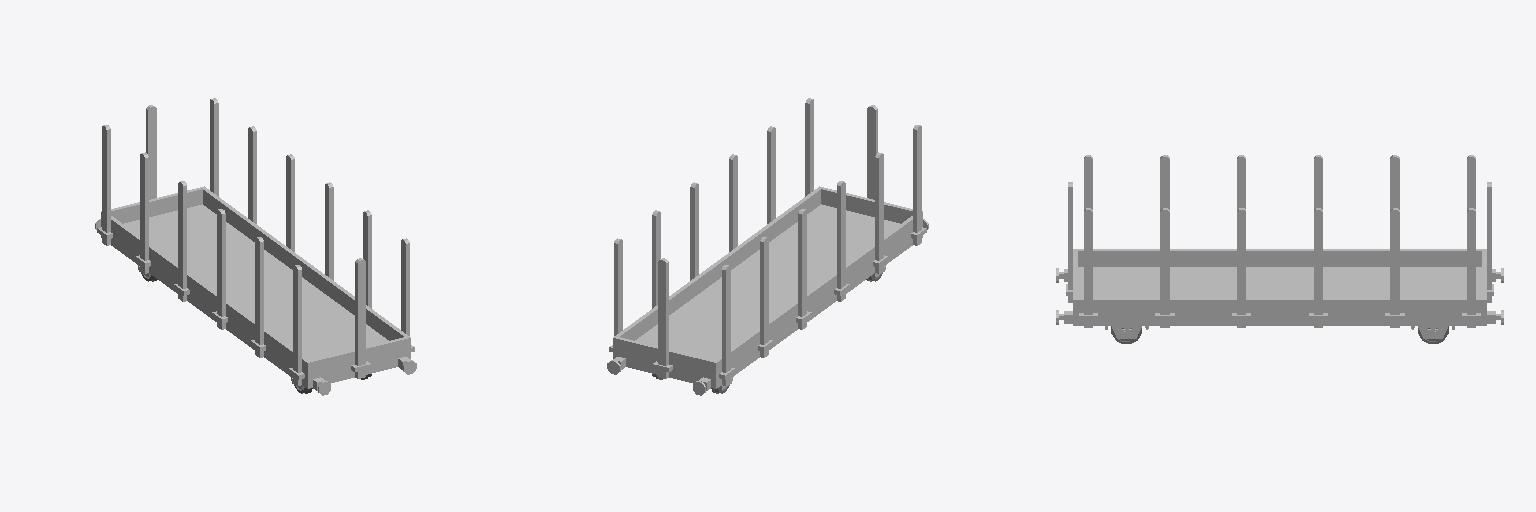
The model's file is dlxtrains_industrial_wagons_stake_type1.obj.
3 views of the same model, side by side, from view 1: azimuth 30°, elevation 25°; view 2: azimuth 150°, elevation 25°; view 3: azimuth 270°, elevation 25° (orthographic).
Parts seen in each view (by area): view 1: dlxtrains_industrial_wagons_stake_type1; view 2: dlxtrains_industrial_wagons_stake_type1; view 3: dlxtrains_industrial_wagons_stake_type1.
Boxes of the visible parts, x1=… form: dlxtrains_industrial_wagons_stake_type1: x1=95, y1=98, x2=416, y2=395; dlxtrains_industrial_wagons_stake_type1: x1=607, y1=98, x2=928, y2=395; dlxtrains_industrial_wagons_stake_type1: x1=1056, y1=155, x2=1503, y2=343.
Size of the model in its own units: 17.5 by 21.11 by 58.38.